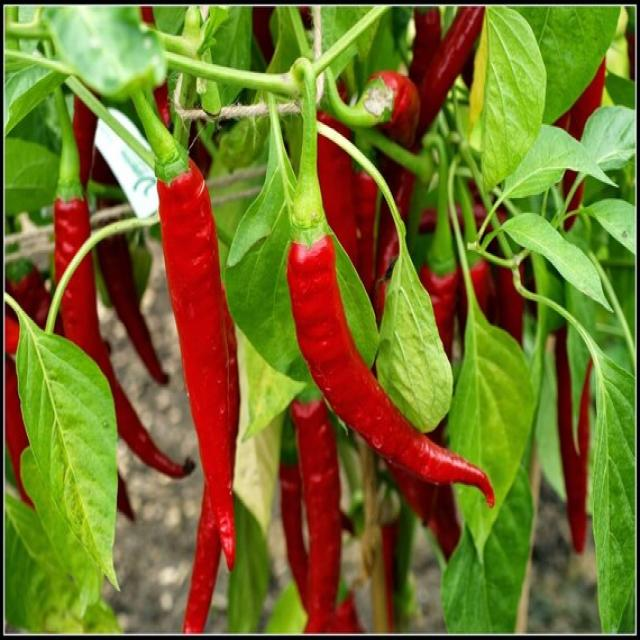red chili: (294, 229, 501, 505), (153, 158, 240, 576), (287, 390, 349, 628)
